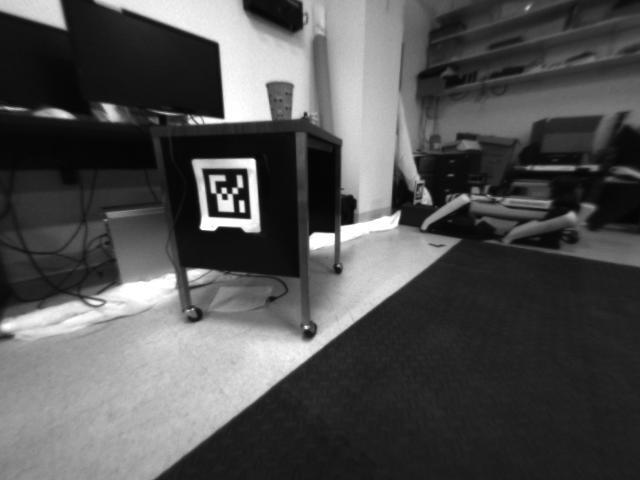coffee_cup: (264, 80, 296, 121)
